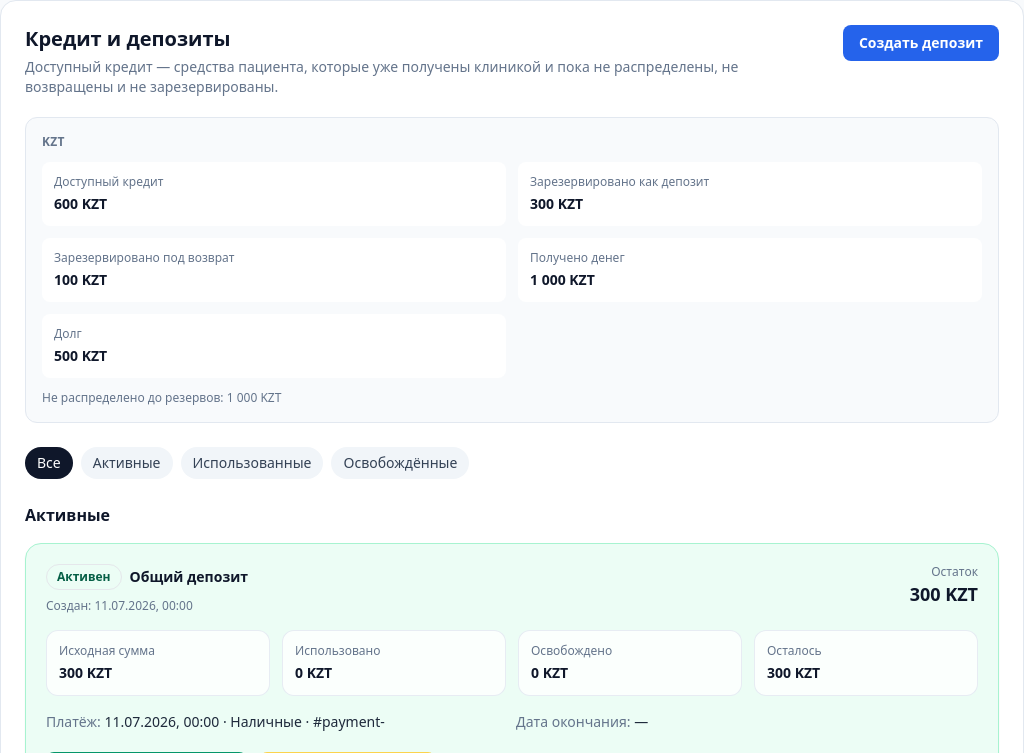
Test: PatientFundReservationsPanel › filters active, used and released reservations
This screenshot has width=1024, height=753.
Click the button with test id "fund-reservation-filter-released" at [400, 463], box [332,447,469,479]
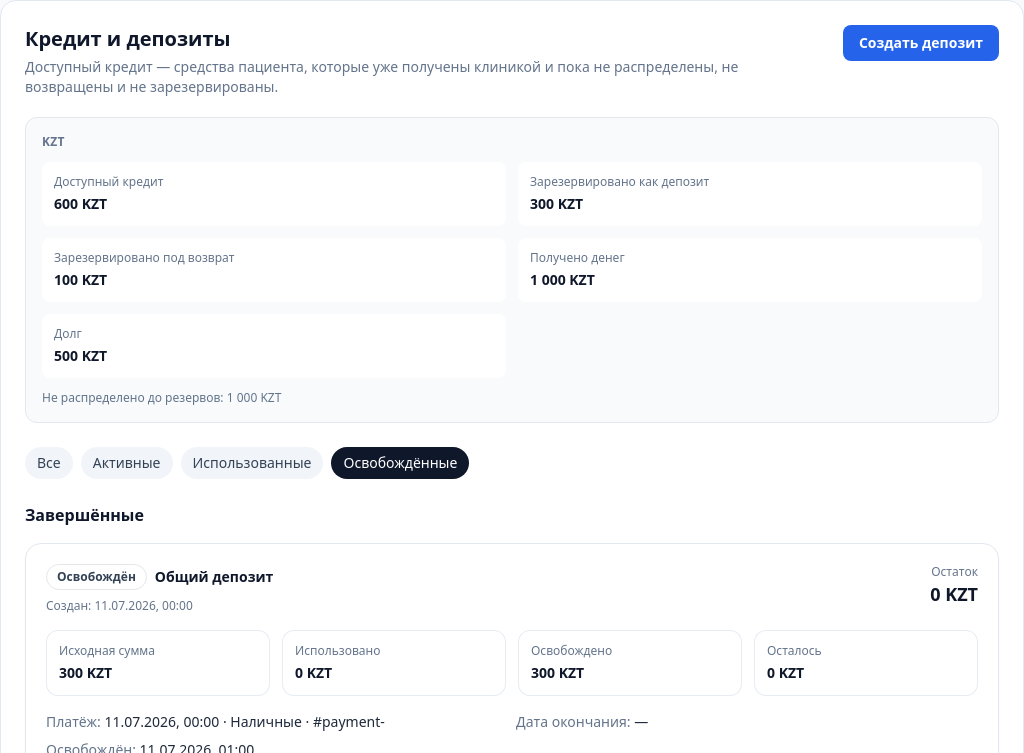
Click the button with test id "fund-reservation-filter-used" at [252, 463], box [180,447,324,479]
(page scrolled)
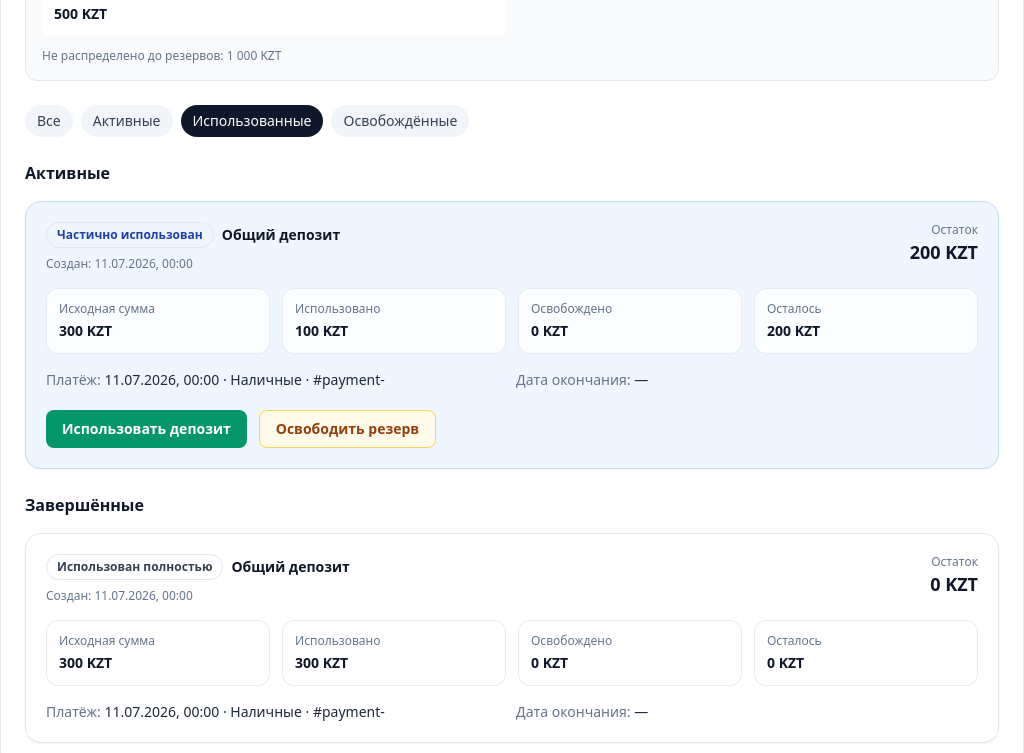
Now the element with test id "fund-reservation-card-partially_used" is shown, box [25,201,999,469]
Now the element with test id "fund-reservation-card-fully_used" is shown, box [25,533,999,743]
